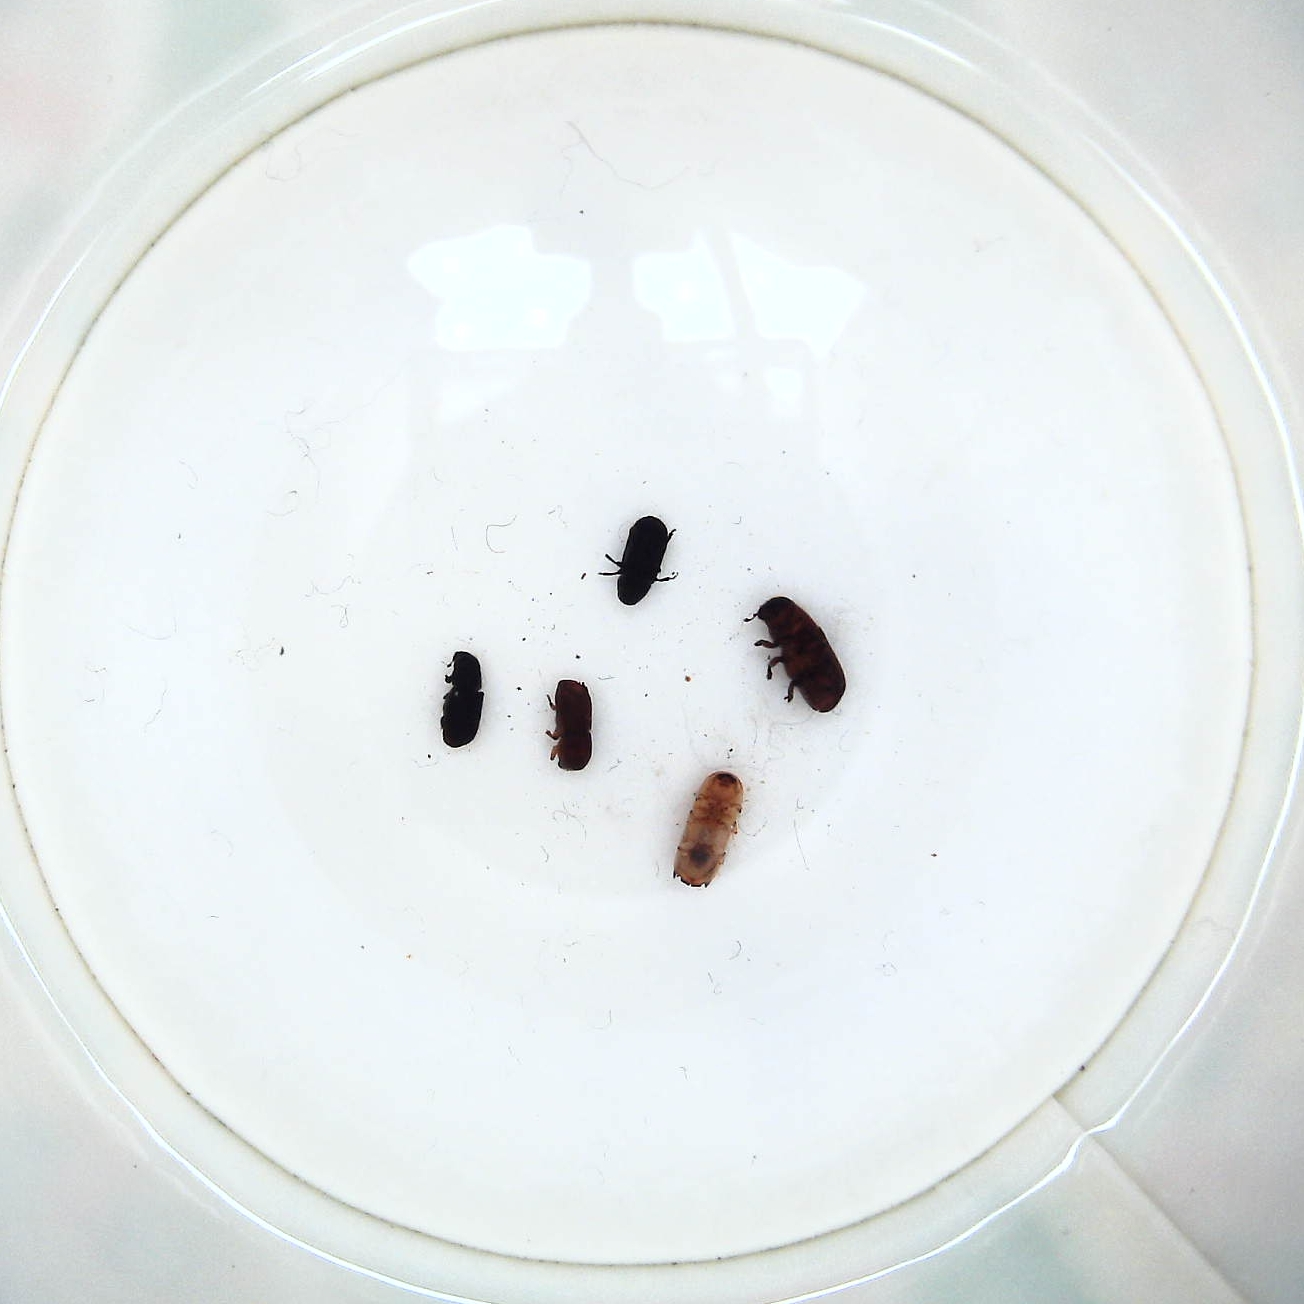Boerner: (673, 769, 749, 891)
Leconte: (746, 596, 845, 718)
armandi: (433, 647, 496, 749)
coleoptera: (607, 510, 678, 608)
linnaeus: (539, 676, 597, 779)
